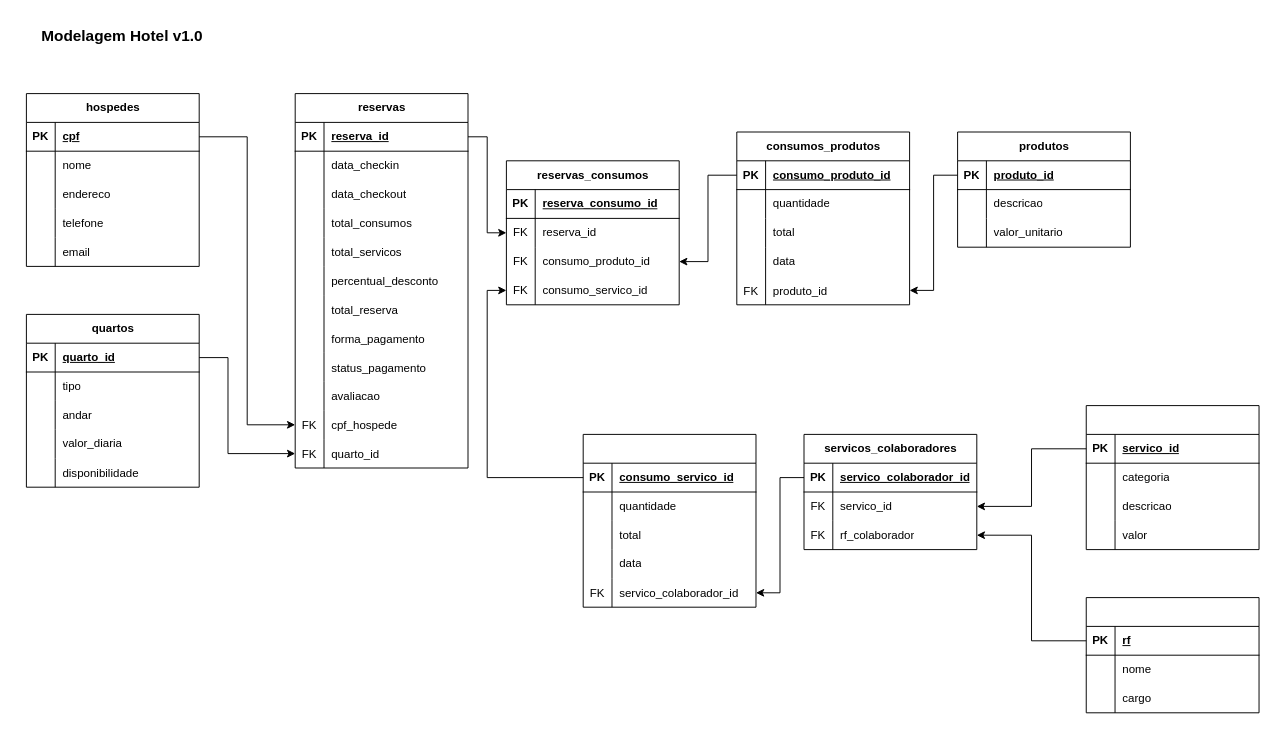
This 1276x730 diagram has some shape labels left out. Each missing label, with the box of its shape:
colaboradores: (1085, 597, 1259, 713)
consumos_servicos: (582, 433, 756, 607)
servicos: (1085, 405, 1259, 550)
